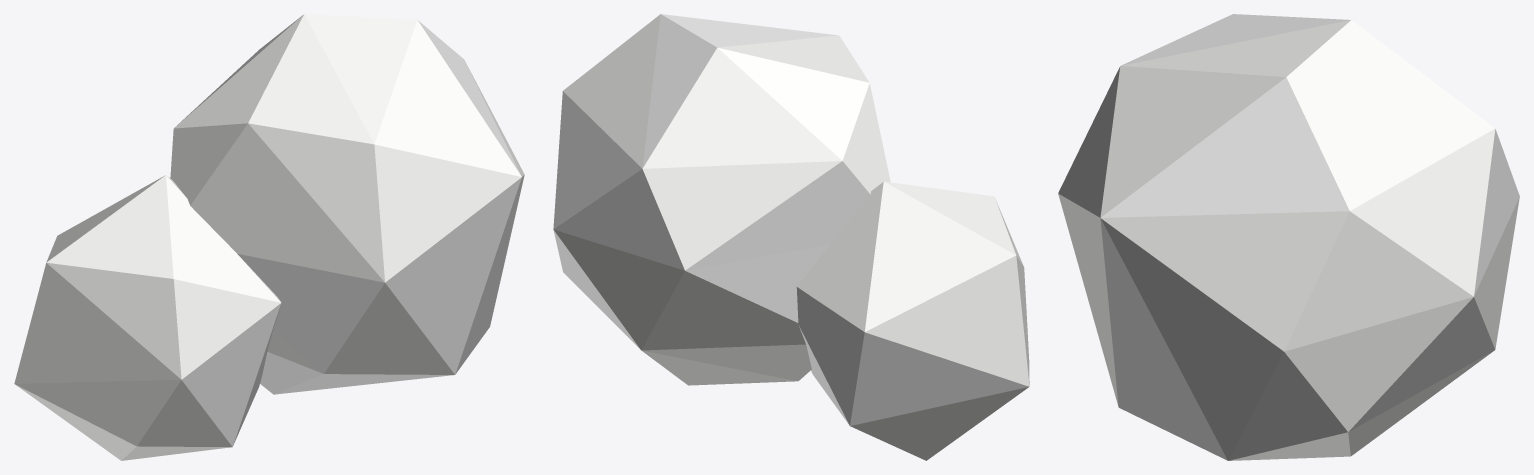
Rendered from Cloud_v21.fbx.
3 views of the same model, side by side, from view 1: azimuth 30°, elevation 25°; view 2: azimuth 150°, elevation 25°; view 3: azimuth 270°, elevation 25° (orthographic). The views are drawn at different scales.
Visible parts, largest first — view 1: Cloud_v21; view 2: Cloud_v21; view 3: Cloud_v21.
Part boxes in pixels (x1,y1,x2,y2): Cloud_v21: [14, 14, 524, 460]; Cloud_v21: [553, 14, 1029, 460]; Cloud_v21: [1058, 14, 1519, 460].
Bounding box in the file's own units: 26.45 × 19.68 × 17.98.
1 material, 1 textured.
